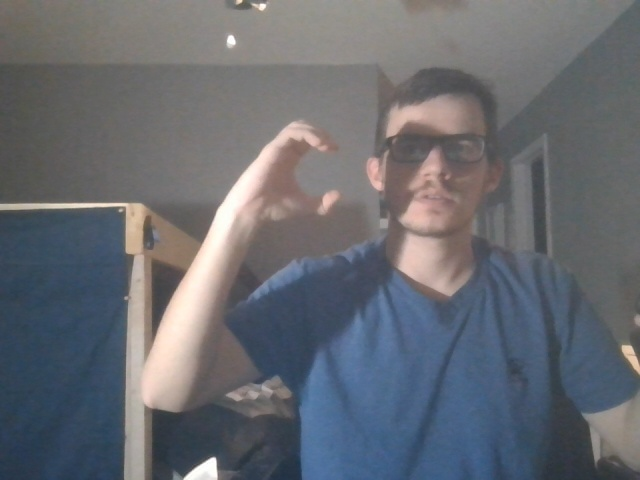C: (228, 107, 351, 249)
